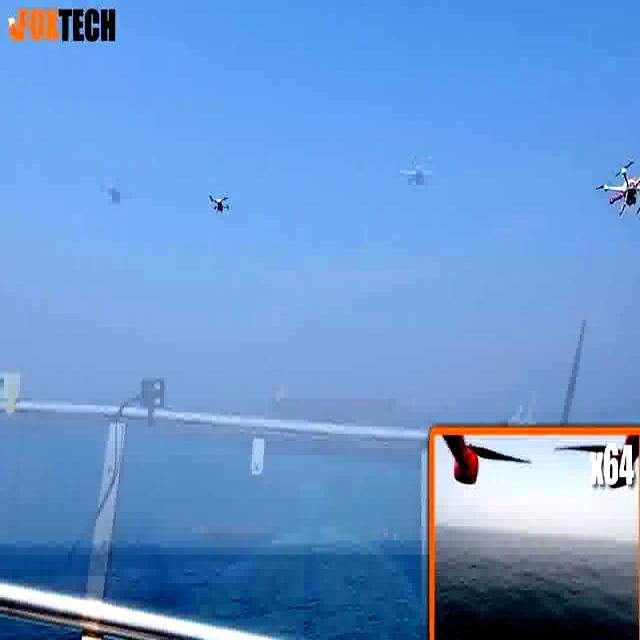drone: (595, 164, 640, 224), (202, 185, 232, 218)
